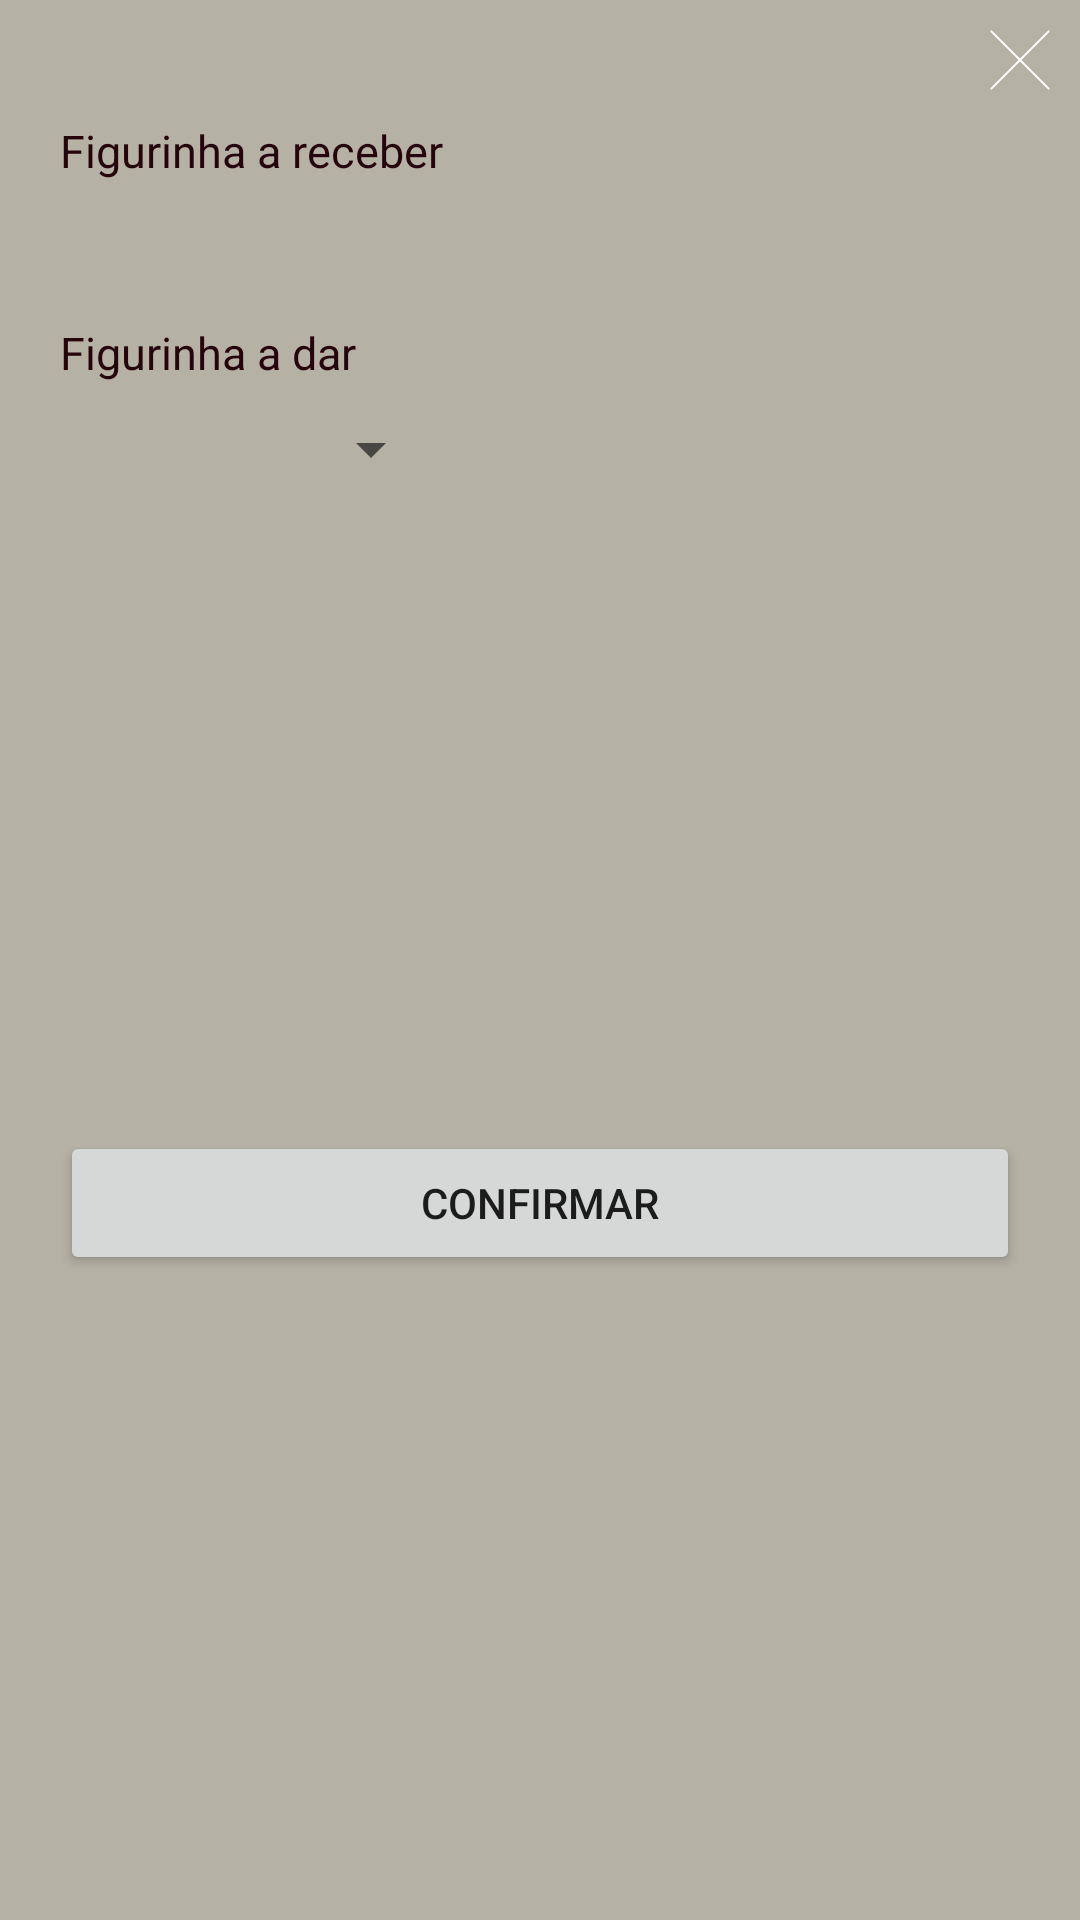

Named icons in this screenshot (1080x1920) and their bounding boxes, (x1=x1, y1=y1, x2=x2, y2=y2):
close: (x1=990, y1=30, x2=1050, y2=90)
